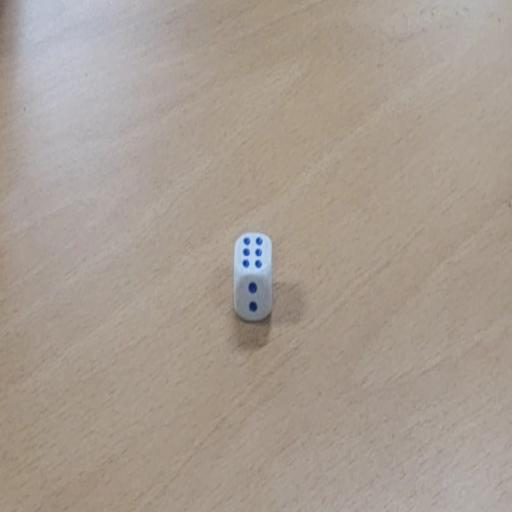dice_6: (233, 230, 274, 324)
